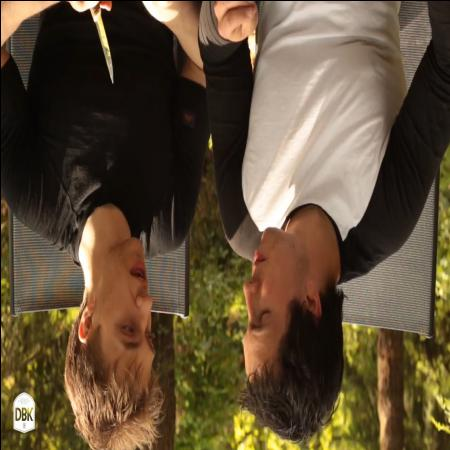long weapon: (77, 1, 121, 97)
